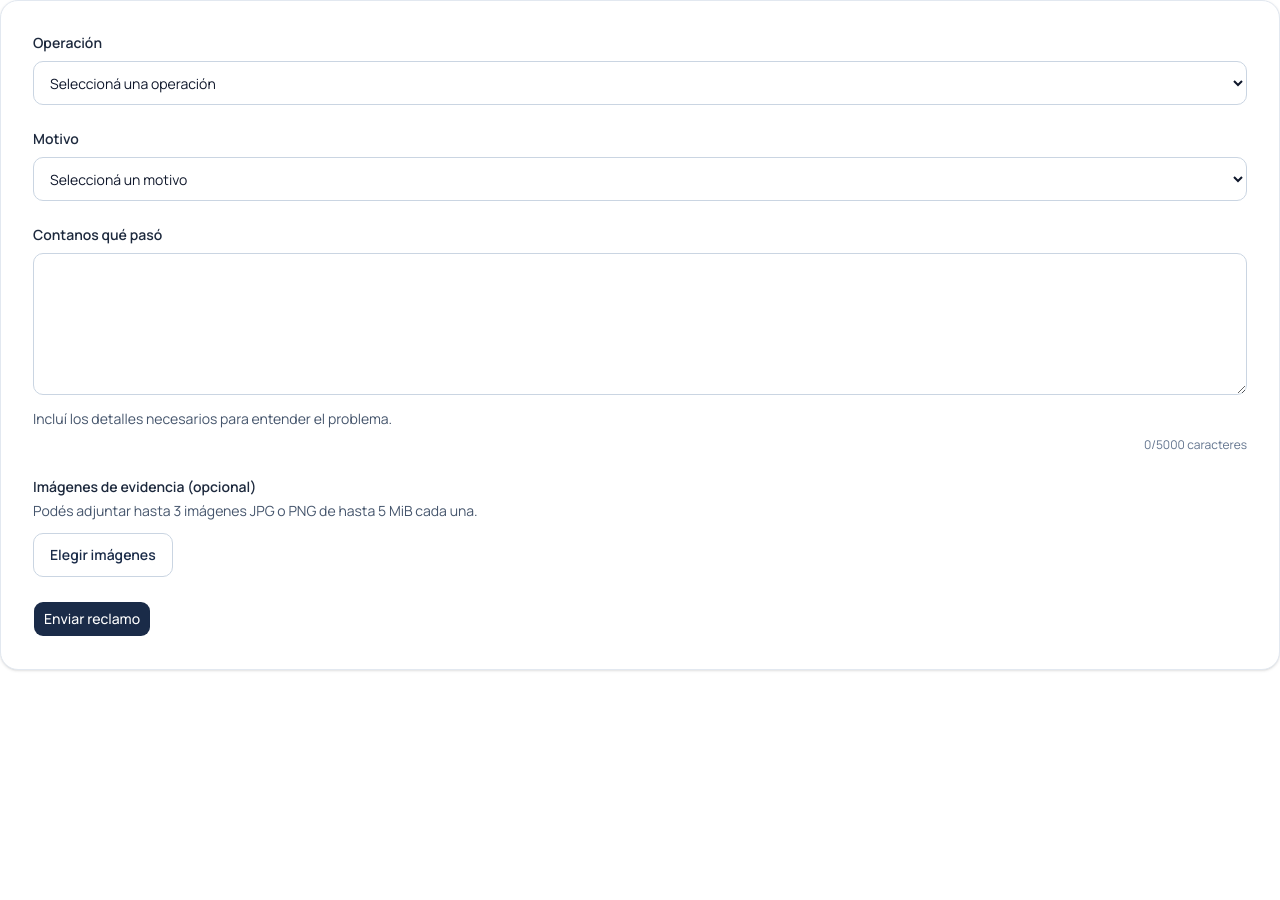
Test: ParticipantClaimForm › submits the selected operation and displays the server acknowledgment
This screenshot has width=1280, height=900.
Select "Solicitud: Reparación de cañería · Reparar una pérdida en la cocina. · Solicitan" in the dropdown with test id "claim-reference". click: (640, 83)
box: [33, 61, 1247, 105]
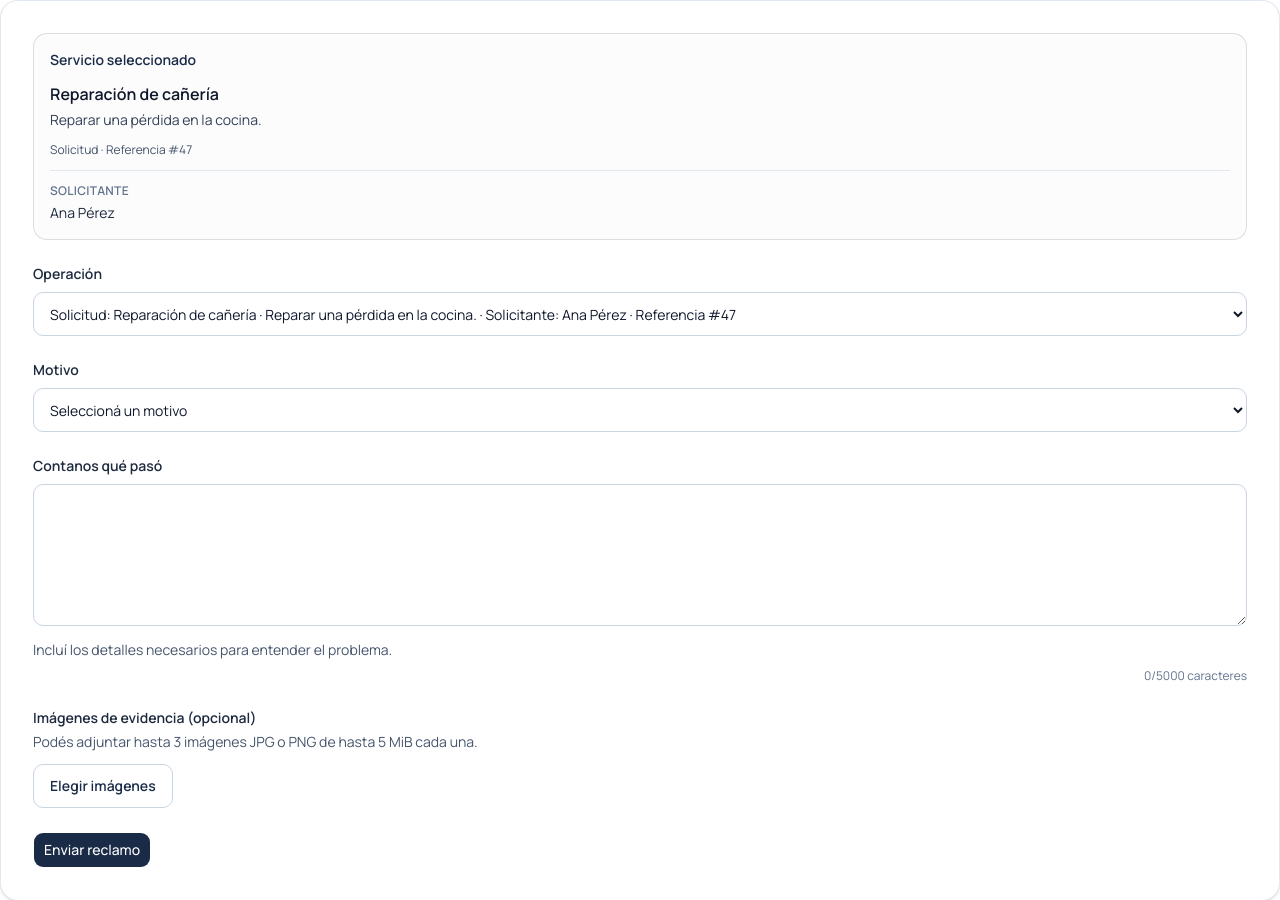
Select "Daño" in the dropdown with test id "claim-reason". click: (640, 410)
box: [33, 388, 1247, 432]
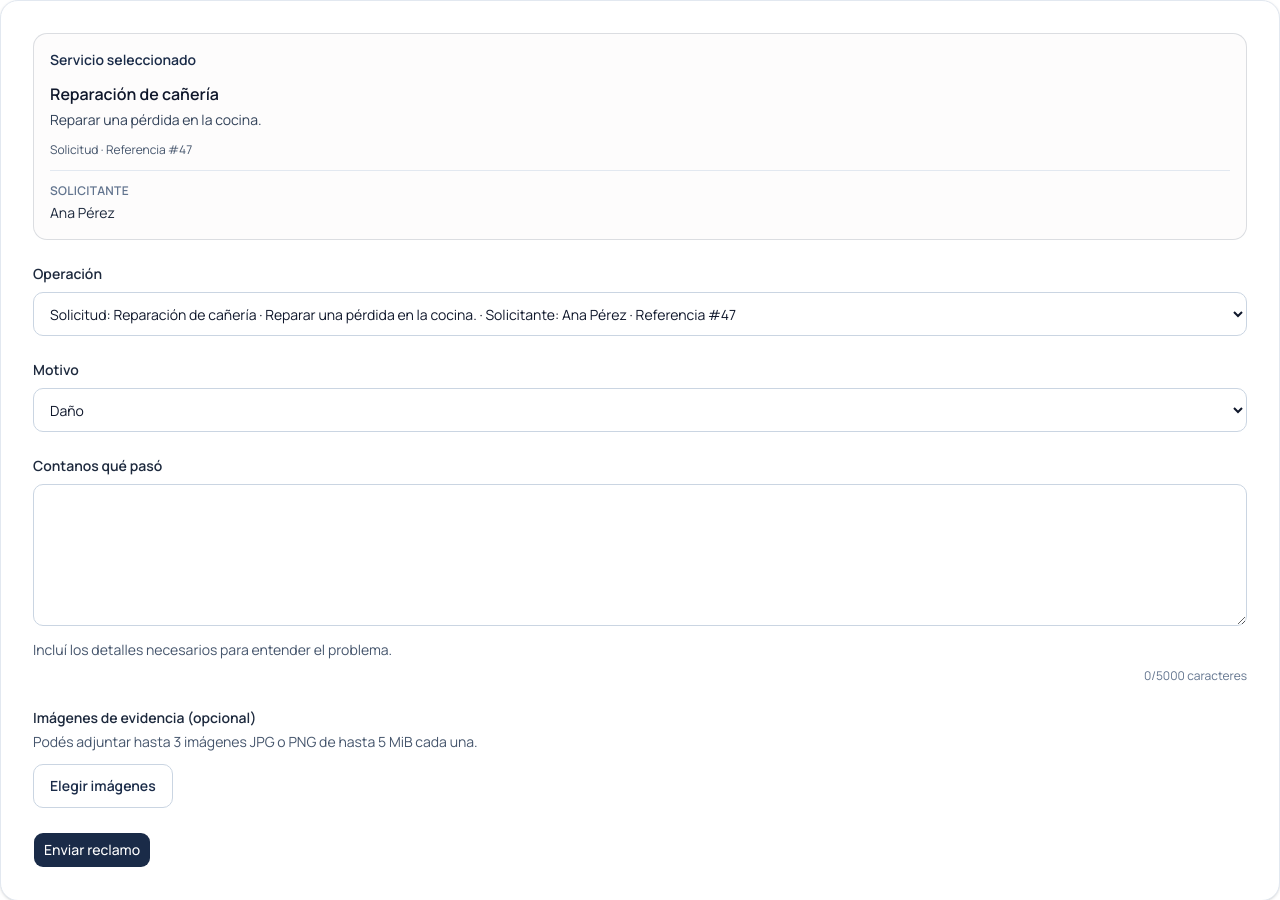
Type "El trabajo causó daños." into the text box with test id "claim-description". click: (640, 555)
box: [33, 484, 1247, 626]
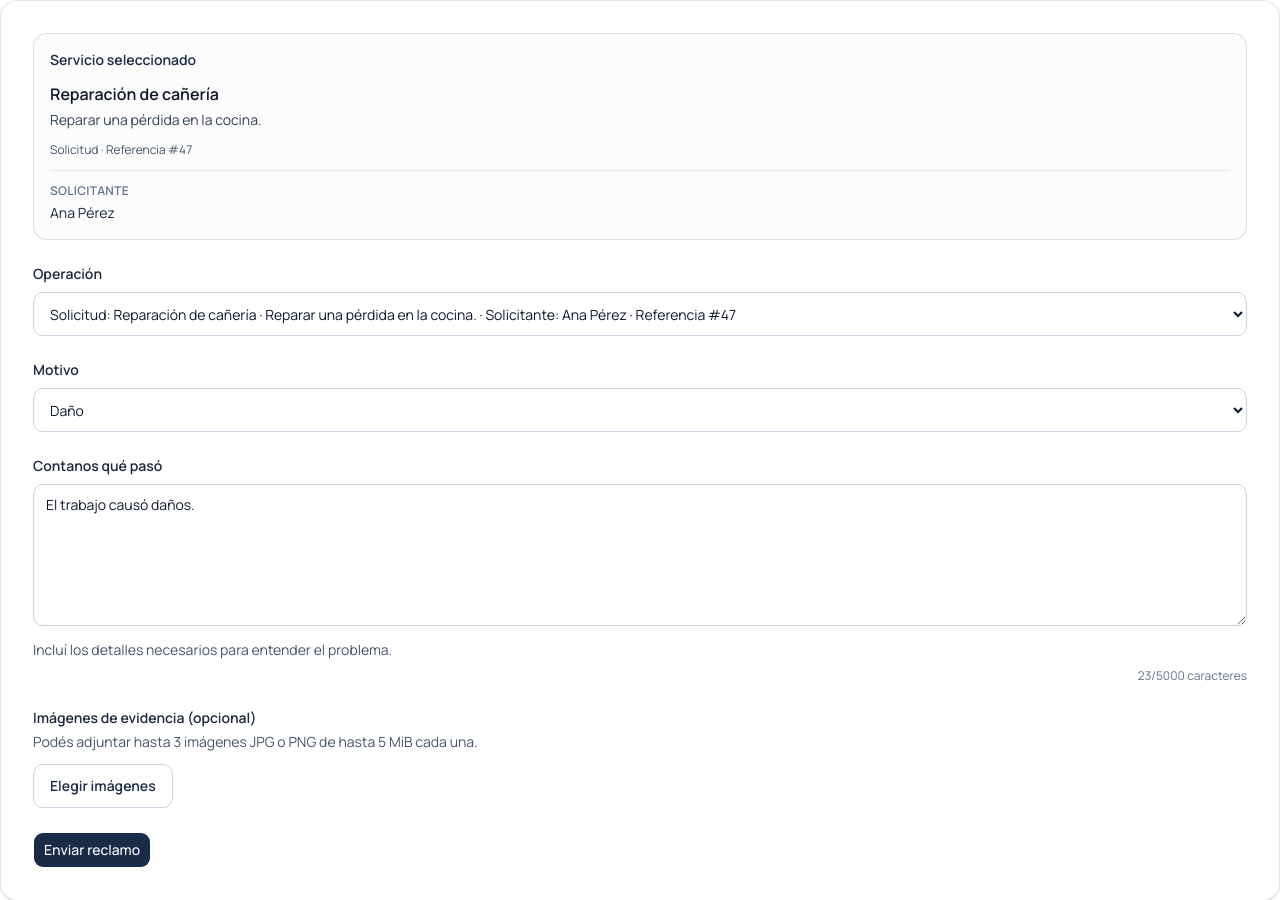
Click the button with test id "claim-submit". click: (92, 850)
box: [33, 832, 151, 868]
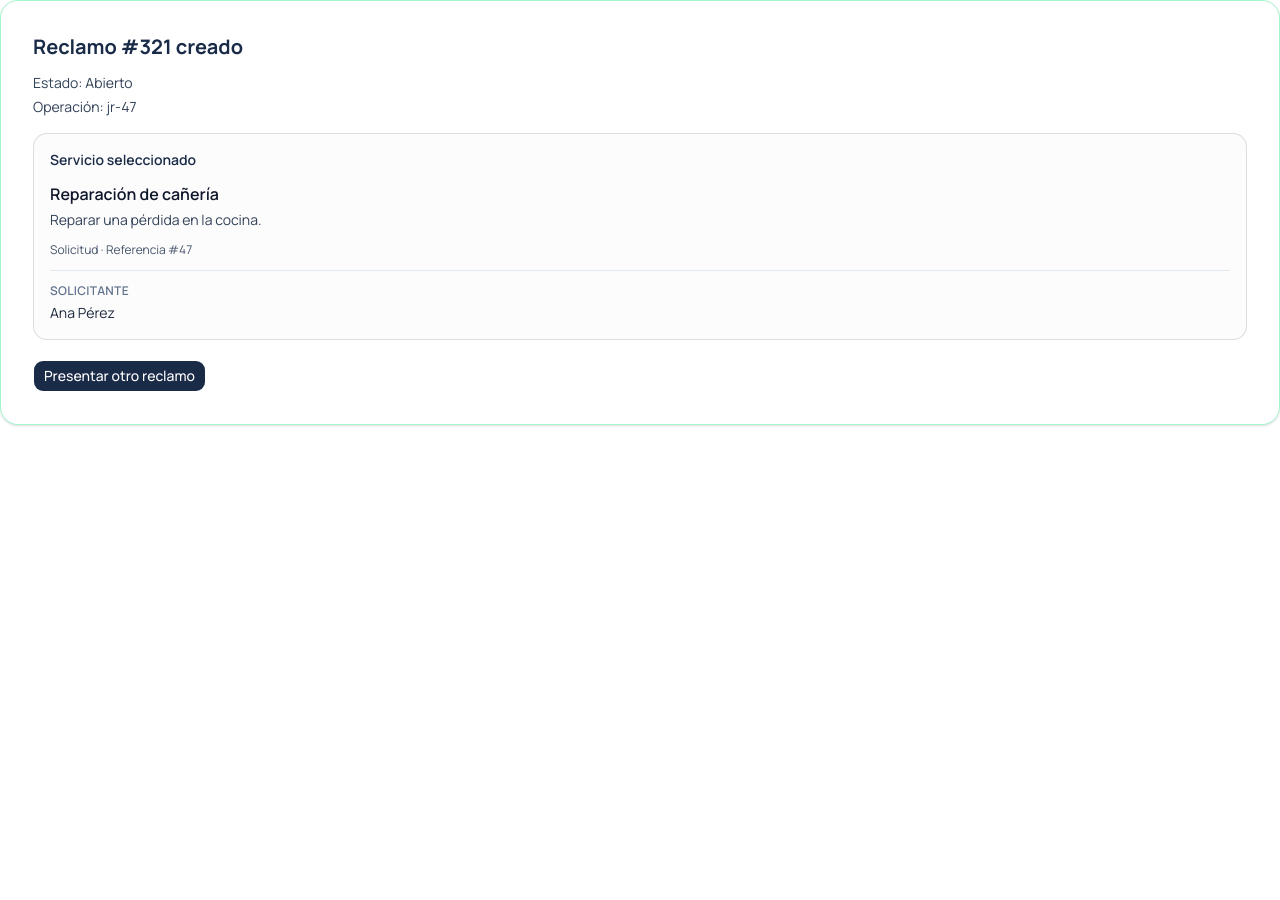
Check: the message with test id "claim-confirmation" shows "Reclamo #321 creado", box [33, 33, 243, 60]
Check: the message with test id "claim-confirmation" shows "Estado: Abierto", box [33, 73, 132, 92]
Check: the message with test id "claim-confirmation" shows "Operación: jr-47", box [33, 97, 136, 116]
